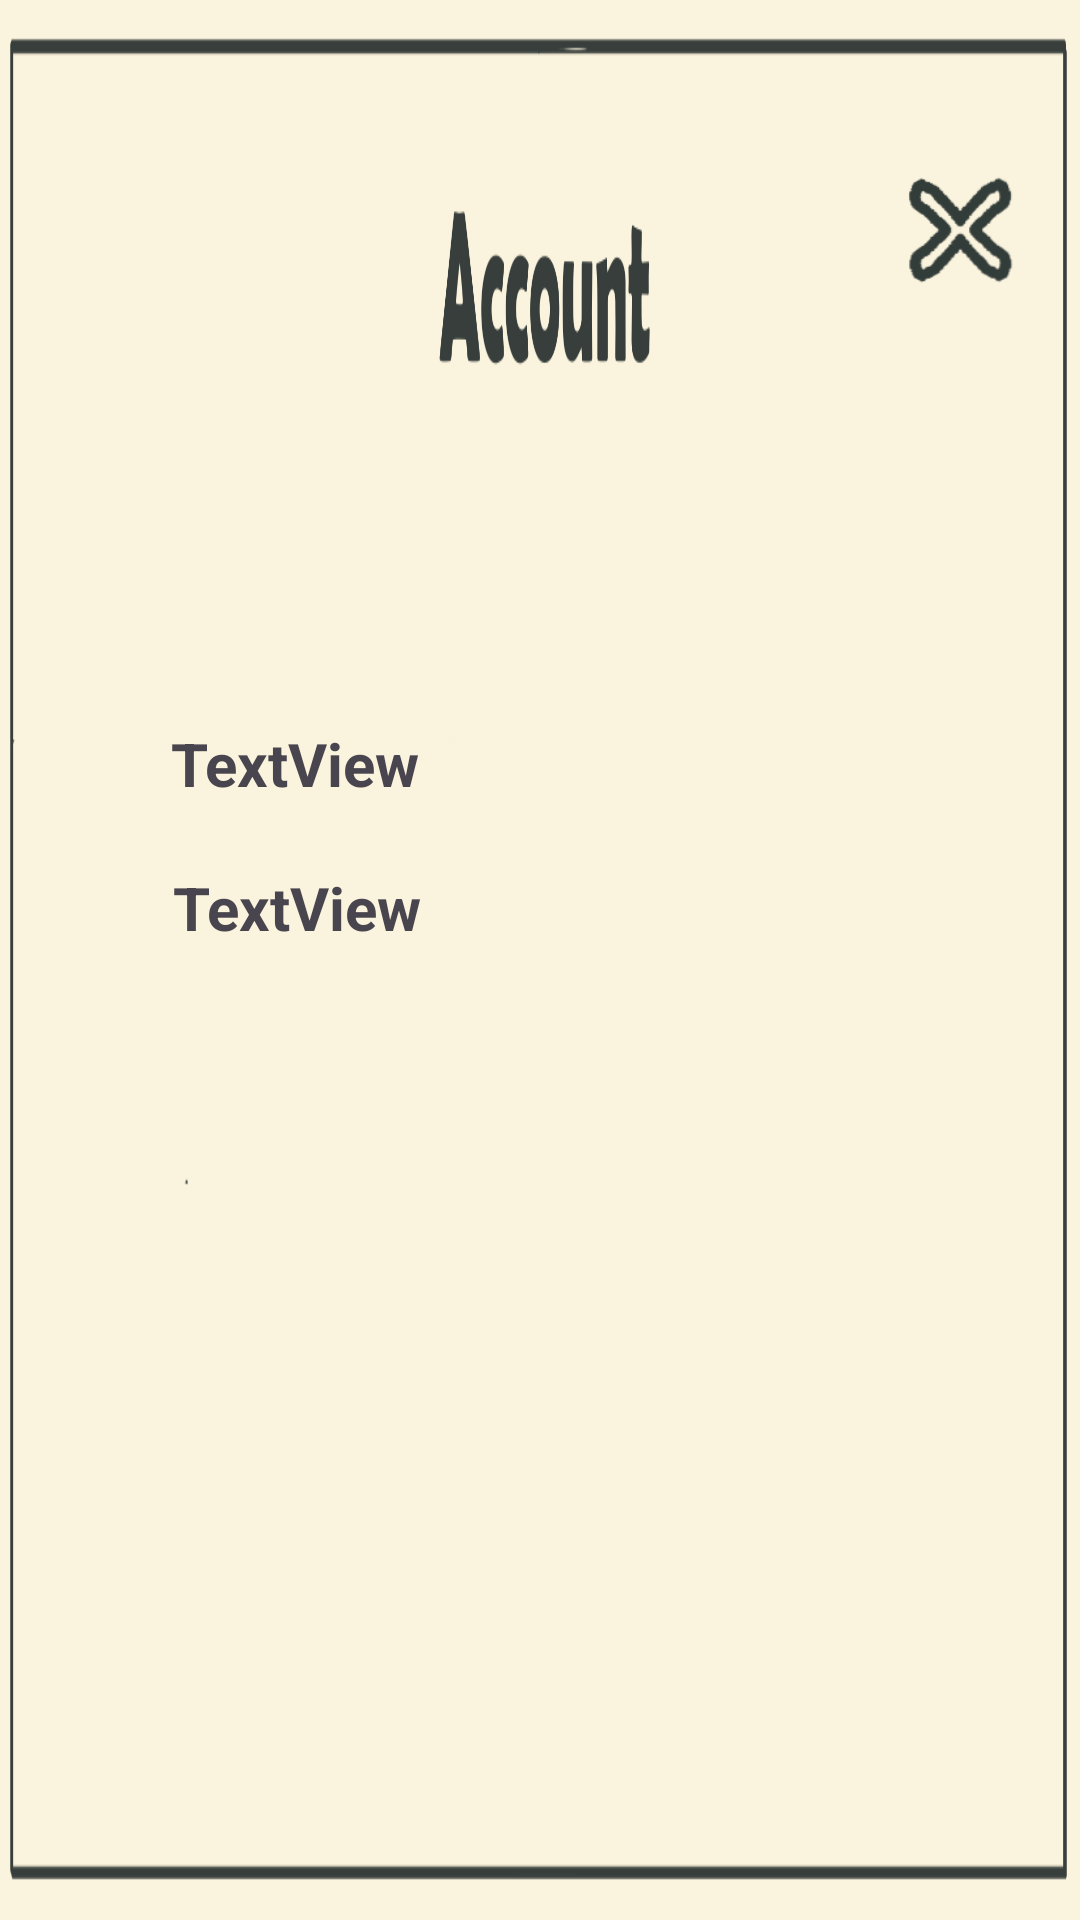

Icons on this 1080 x 1920 Android screen, each with the point to tap as point (x, y):
exit: point (960, 230)
